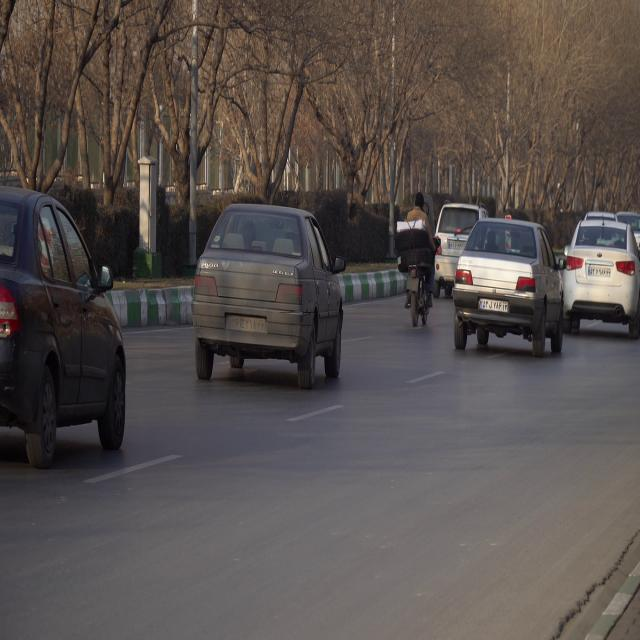car: (0, 186, 124, 457), (193, 203, 343, 393), (454, 220, 565, 349), (564, 219, 639, 341), (435, 204, 481, 298)
motorbike: (396, 192, 436, 328)
